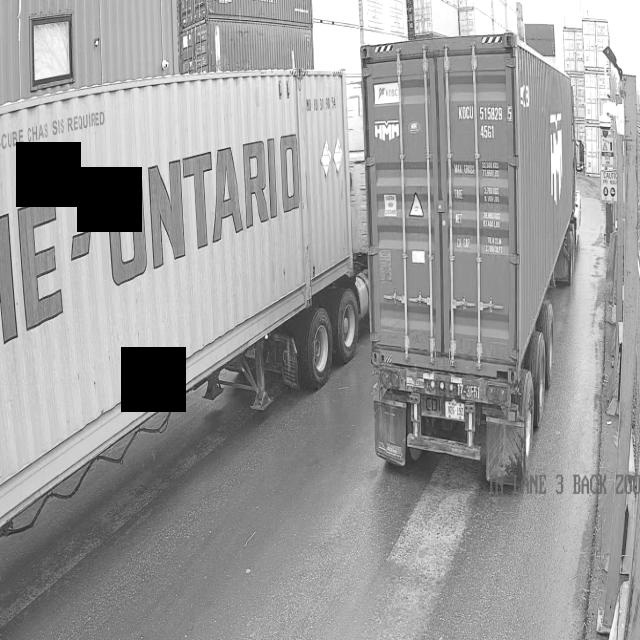container_company_logo: (371, 113, 401, 142)
container_number: (456, 102, 516, 140)
license_plate: (441, 397, 468, 426)
truck_with_container: (0, 69, 379, 536), (362, 32, 578, 483)
